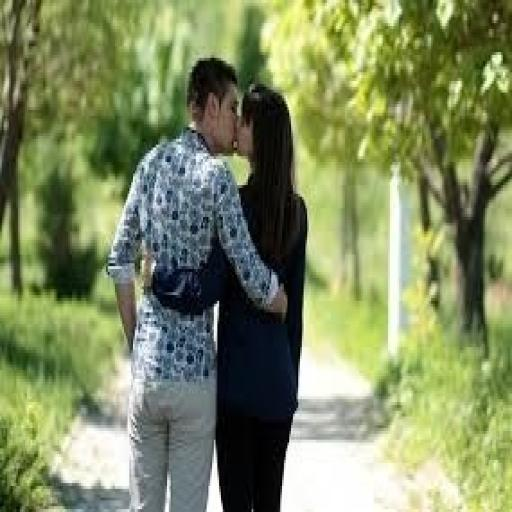hugging: (106, 52, 293, 509)
